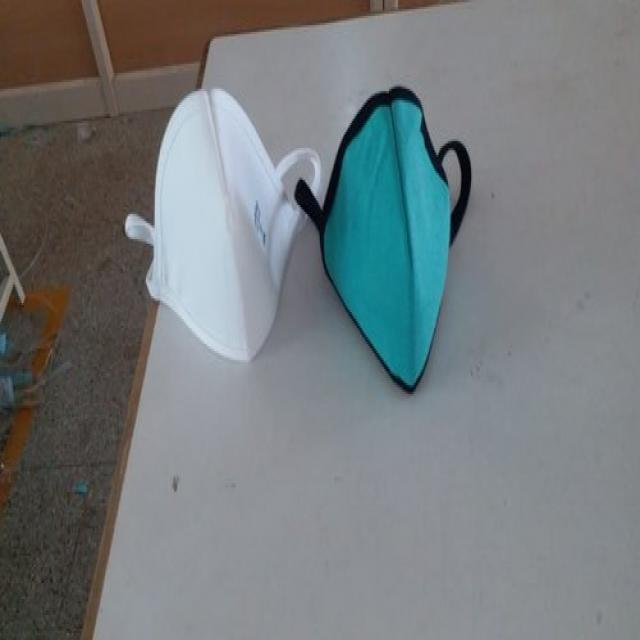face mask: (300, 82, 474, 392), (136, 80, 312, 364)
